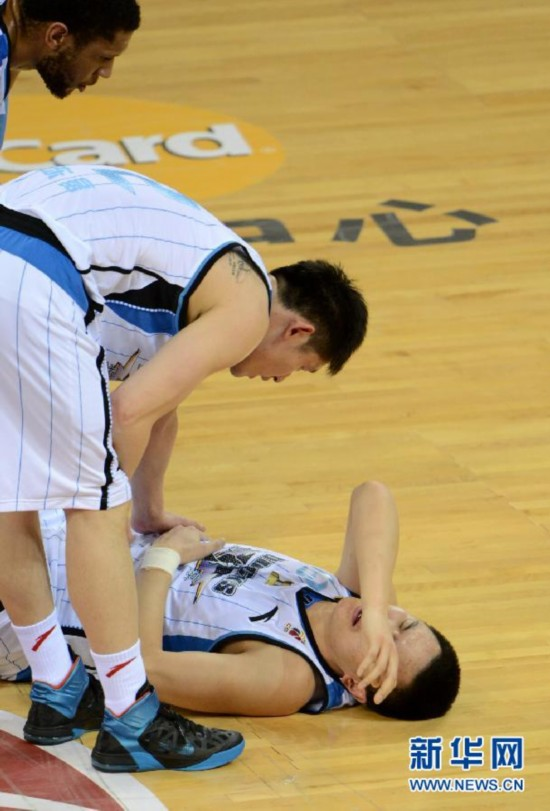fall: (11, 484, 480, 742)
